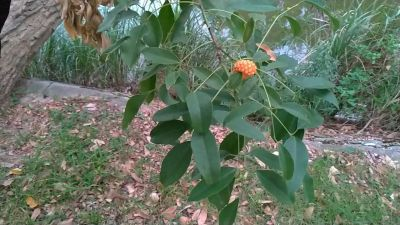eggs: (231, 56, 256, 78)
